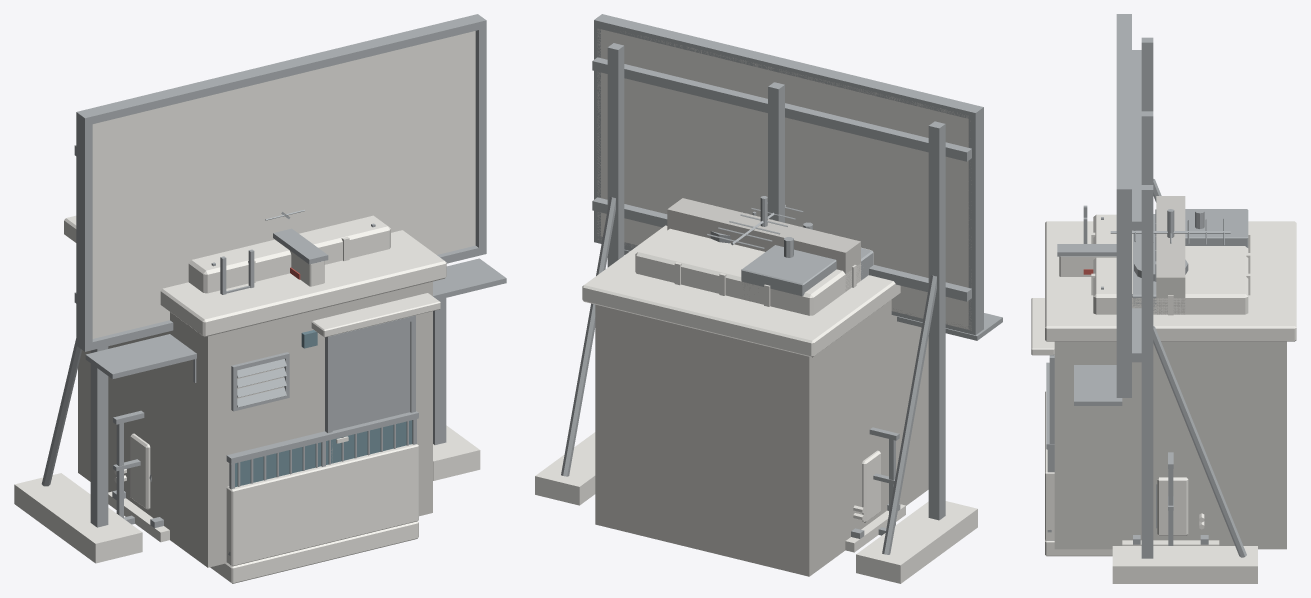
Rendered from kit.glb.
3 renders of one model, left to right at view 1: azimuth 30°, elevation 25°; view 2: azimuth 150°, elevation 25°; view 3: azimuth 270°, elevation 25°, orthographic. The views are drawn at different scales.
Visible parts, largest first — view 1: tokyo-roof-billboard trim, tokyo-roof-stairhouse wall, tokyo-roof-billboard frame, window-tokyo-balcony trim, tokyo-roof-stairhouse trim, tokyo-roof-stairhouse frame, tokyo-roof-water-tank trim, window-tokyo-balcony glass, window-tokyo-balcony-rail frame, tokyo-roof-ac-cluster trim, tokyo-roof-railing frame, wall-tokyo-sign frame (+1 smaller); view 2: tokyo-roof-stairhouse wall, tokyo-roof-billboard trim, tokyo-roof-billboard frame, tokyo-roof-stairhouse trim, tokyo-roof-water-tank trim, tokyo-roof-stairhouse frame, window-tokyo-sash wall, tokyo-roof-ac-cluster trim, wall-tokyo-tile wall, window-tokyo-grille wall, tokyo-roof-antenna frame, tokyo-roof-railing frame (+1 smaller); view 3: tokyo-roof-stairhouse wall, tokyo-roof-billboard frame, tokyo-roof-stairhouse trim, tokyo-roof-water-tank trim, tokyo-roof-billboard trim, tokyo-roof-stairhouse frame, tokyo-roof-ac-cluster trim, window-tokyo-balcony trim, window-tokyo-shoji wall, window-tokyo-sash wall, door-tokyo-shop-shutter wall, wall-tokyo-sign frame (+9 smaller).
Boxes of the visible parts, box(x1,y1,x2,y2) form: tokyo-roof-billboard trim: box(14, 31, 480, 563); tokyo-roof-stairhouse wall: box(78, 281, 432, 567); tokyo-roof-billboard frame: box(41, 14, 506, 527); window-tokyo-balcony trim: box(210, 444, 418, 583); tokyo-roof-stairhouse trim: box(64, 215, 446, 443); tokyo-roof-stairhouse frame: box(231, 315, 415, 463); tokyo-roof-water-tank trim: box(188, 215, 390, 293); window-tokyo-balcony glass: box(235, 420, 412, 487); window-tokyo-balcony-rail frame: box(211, 223, 418, 555); tokyo-roof-ac-cluster trim: box(108, 433, 169, 542); tokyo-roof-railing frame: box(113, 410, 144, 524); wall-tokyo-sign frame: box(273, 228, 328, 264); tokyo-roof-stairhouse wall: box(595, 300, 928, 576); tokyo-roof-billboard trim: box(535, 29, 977, 583); tokyo-roof-billboard frame: box(561, 14, 1002, 554); tokyo-roof-stairhouse trim: box(582, 225, 900, 357); tokyo-roof-water-tank trim: box(635, 228, 873, 315); tokyo-roof-stairhouse frame: box(741, 245, 836, 296); window-tokyo-sash wall: box(667, 198, 860, 291); tokyo-roof-ac-cluster trim: box(845, 450, 905, 552); wall-tokyo-tile wall: box(667, 198, 844, 256); window-tokyo-grille wall: box(667, 198, 859, 271); tokyo-roof-antenna frame: box(707, 196, 803, 248); tokyo-roof-railing frame: box(869, 427, 899, 535); tokyo-roof-stairhouse wall: box(1054, 341, 1286, 549); tokyo-roof-billboard frame: box(1074, 14, 1246, 558); tokyo-roof-stairhouse trim: box(1031, 221, 1296, 355); tokyo-roof-water-tank trim: box(1091, 214, 1250, 315); tokyo-roof-billboard trim: box(1112, 546, 1257, 583); tokyo-roof-stairhouse frame: box(1049, 209, 1248, 540); tokyo-roof-ac-cluster trim: box(1122, 477, 1219, 545); window-tokyo-balcony trim: box(1045, 391, 1112, 556); window-tokyo-shoji wall: box(1156, 196, 1185, 277); window-tokyo-sash wall: box(1156, 196, 1185, 314); door-tokyo-shop-shutter wall: box(1156, 196, 1185, 277); wall-tokyo-sign frame: box(1057, 244, 1116, 256).
Size of the model in its own units: 4.28 by 4.72 by 2.74.
